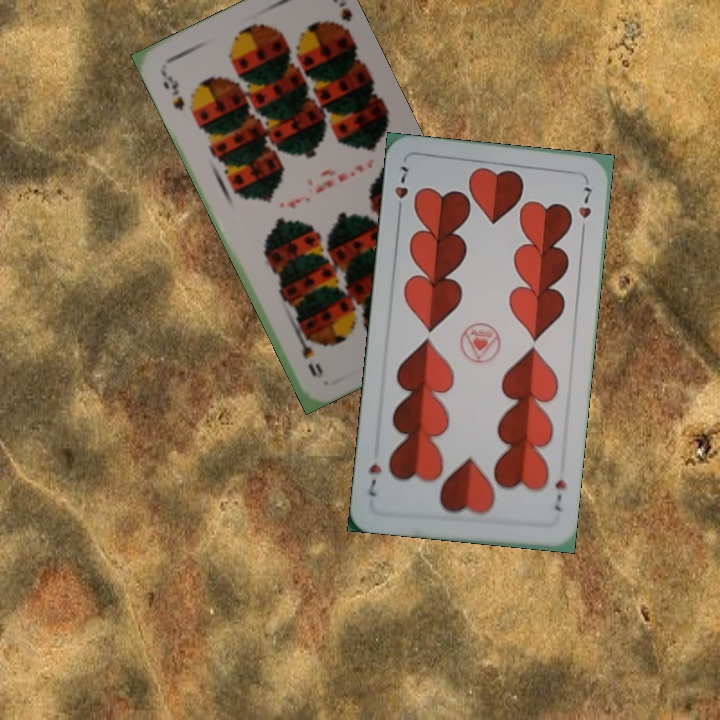H7: (390, 162, 411, 218), (549, 475, 569, 514)
S9: (157, 66, 188, 113)
